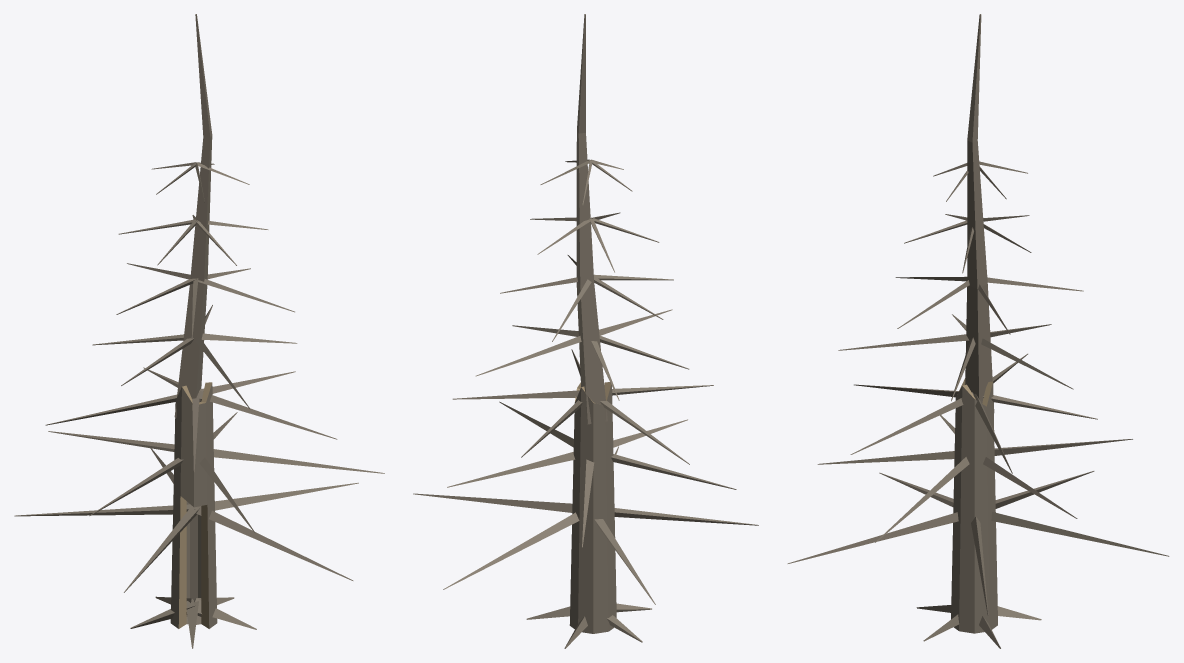
The model's file is hemlock-dead-lod1.glb.
3 renders of one model, left to right at view 1: azimuth 30°, elevation 25°; view 2: azimuth 150°, elevation 25°; view 3: azimuth 270°, elevation 25°, orthographic.
Parts seen in each view (by area): view 1: tree_hemlock-dead_LOD1; view 2: tree_hemlock-dead_LOD1; view 3: tree_hemlock-dead_LOD1.
Boxes of the visible parts, left/top/right/bottom form: tree_hemlock-dead_LOD1: left=14, top=14, right=384, bottom=648; tree_hemlock-dead_LOD1: left=413, top=14, right=758, bottom=648; tree_hemlock-dead_LOD1: left=787, top=14, right=1169, bottom=648.
Bounding box in the file's own units: 6.89 × 13.5 × 7.64.
